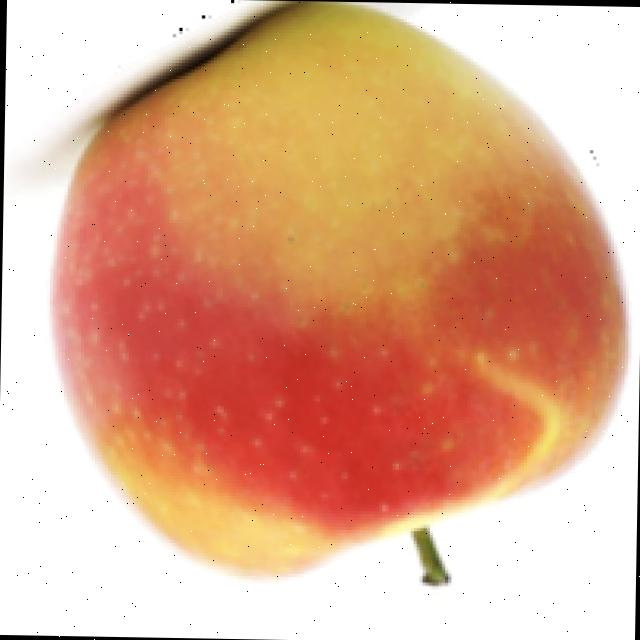apple: (9, 2, 634, 591)
